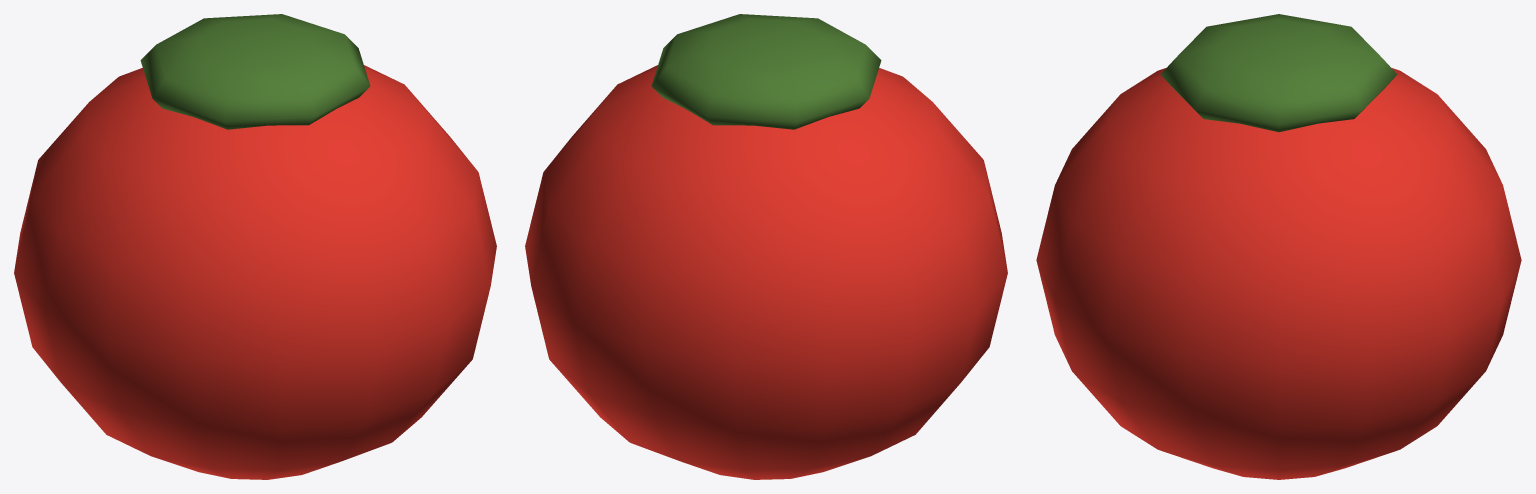
Rendered from TomatoItem.fbx.
The picture shows the model from 3 angles, left to right: view 1: azimuth 30°, elevation 25°; view 2: azimuth 150°, elevation 25°; view 3: azimuth 270°, elevation 25°; orthographic projection.
Parts seen in each view (by area): view 1: Tomato.011, Calyx.010; view 2: Tomato.011, Calyx.010; view 3: Tomato.011, Calyx.010.
Boxes of the visible parts, x1=… form: Tomato.011: x1=14, y1=65, x2=496, y2=479; Calyx.010: x1=140, y1=14, x2=370, y2=129; Tomato.011: x1=525, y1=65, x2=1007, y2=479; Calyx.010: x1=651, y1=14, x2=881, y2=129; Tomato.011: x1=1036, y1=68, x2=1521, y2=479; Calyx.010: x1=1160, y1=14, x2=1397, y2=132.
Bounding box in the file's own units: 0.09 × 0.085 × 0.09.
